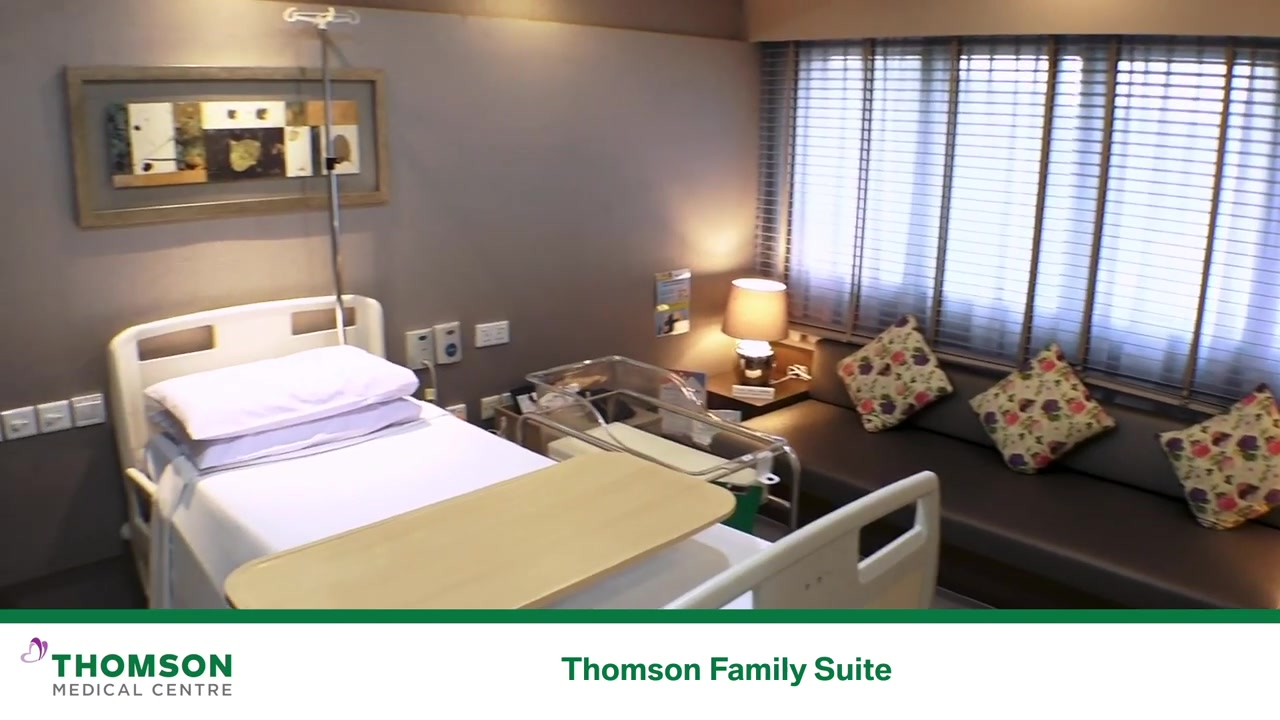bedrail: (124, 467, 169, 609)
bedside_table: (707, 368, 811, 420)
foot_board: (662, 470, 942, 609)
hospital_bed: (107, 294, 942, 610)
iv_pole: (282, 7, 361, 344)
light_switch: (70, 393, 105, 427)
overbed_table: (223, 451, 737, 609)
sofa: (734, 338, 1280, 609)
